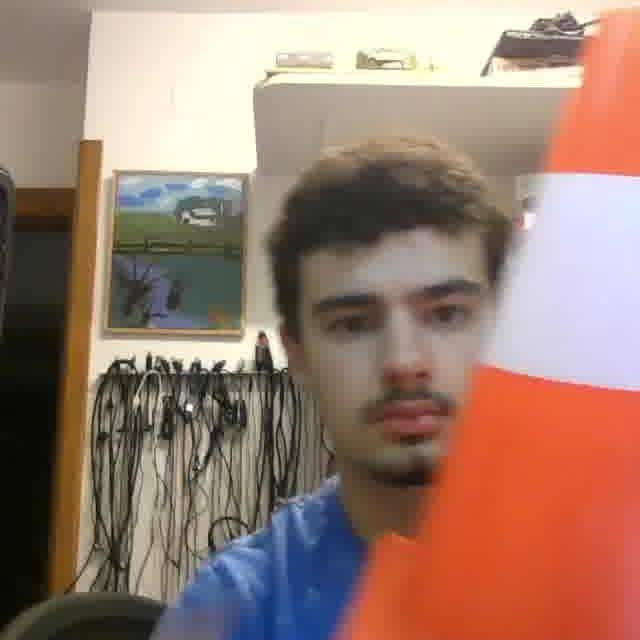NO-Hardhat: (279, 146, 506, 264)
NO-Mask: (342, 380, 463, 476)
NO-Safety Vest: (219, 511, 397, 640)
Person: (159, 135, 520, 640)
Safety Cone: (315, 0, 640, 640)
